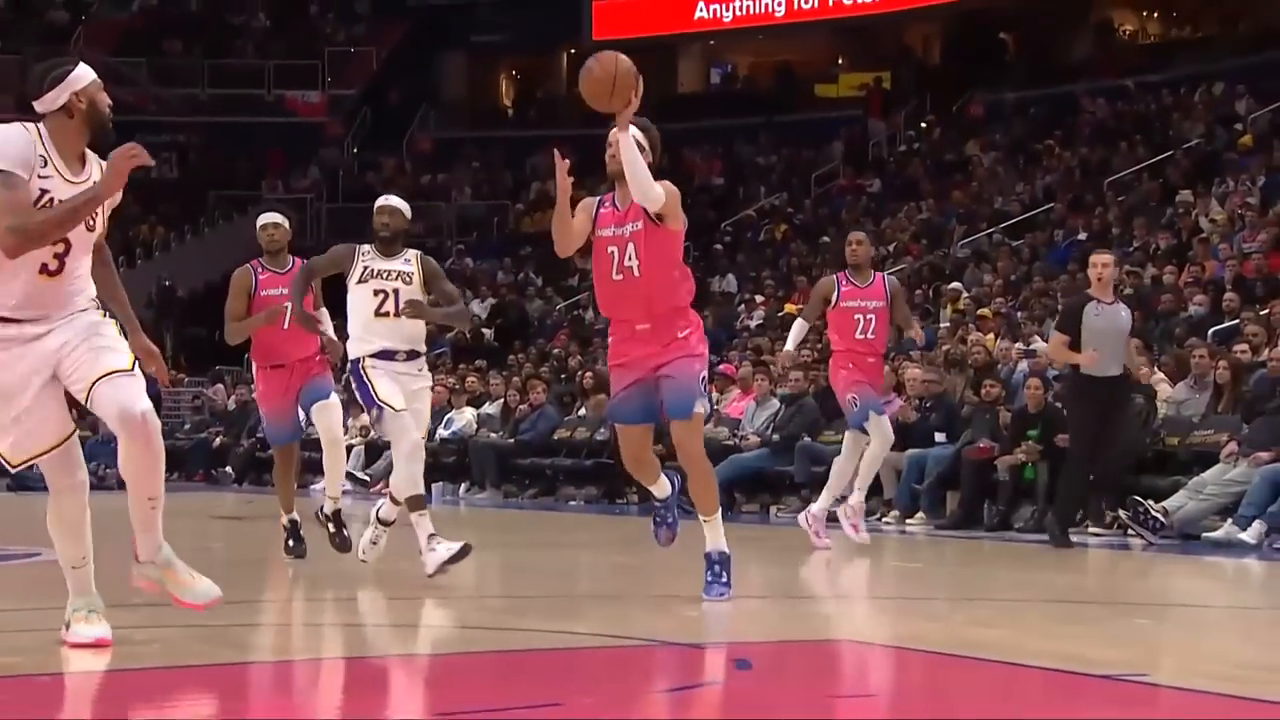ball: (573, 48, 647, 117)
